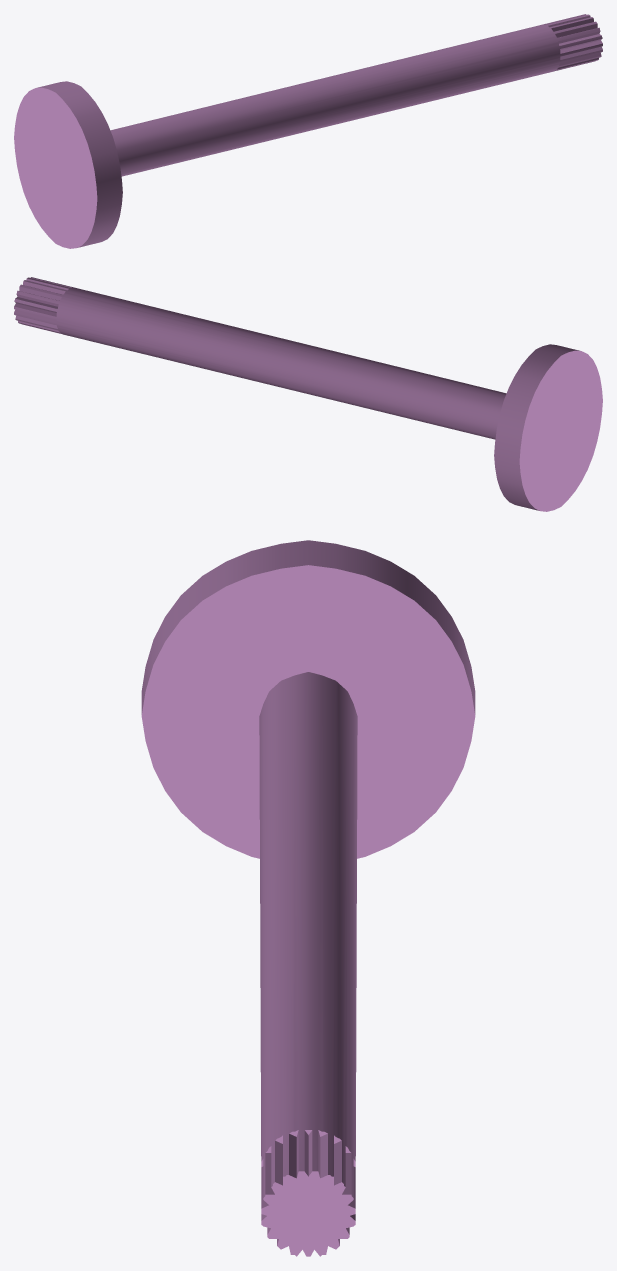
File: Axel right isolated.gltf
3 views of the same model, one above another, from view 1: azimuth 30°, elevation 25°; view 2: azimuth 150°, elevation 25°; view 3: azimuth 270°, elevation 25° (orthographic). The views are drawn at different scales.
Parts seen in each view (by area): view 1: Axels; view 2: Axels; view 3: Axels.
Part boxes in pixels (left/top/right/bottom): Axels: left=14, top=14, right=602, bottom=248; Axels: left=14, top=277, right=602, bottom=511; Axels: left=141, top=540, right=475, bottom=1256.
Bounding box in the file's own units: 63 × 17 × 17.
